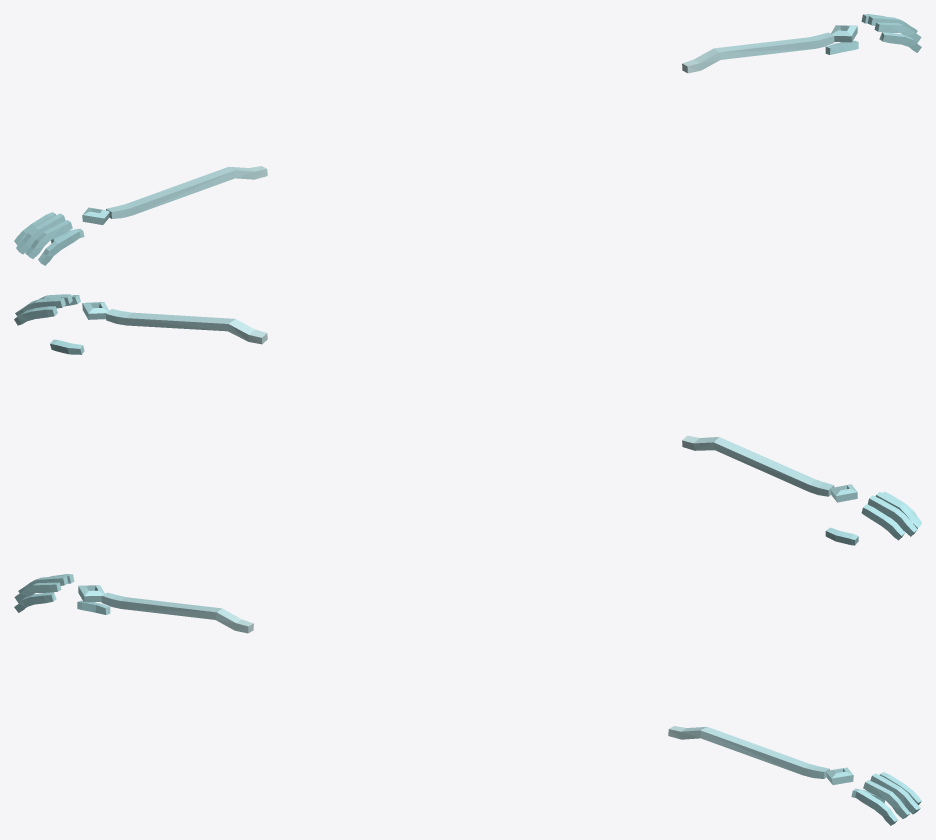
Rendered from CharSkyNPC_Prop_PowerGlove.glb.
The picture shows the model from 3 angles, top to bottom: view 1: azimuth 30°, elevation 25°; view 2: azimuth 150°, elevation 25°; view 3: azimuth 330°, elevation 25°; orthographic projection.
Parts seen in each view (by area): view 1: CharSkyNPC_Prop_PowerGlove; view 2: CharSkyNPC_Prop_PowerGlove; view 3: CharSkyNPC_Prop_PowerGlove.
Boxes of the visible parts, x1,y1,x2,y2 form: CharSkyNPC_Prop_PowerGlove: [14, 14, 921, 265]; CharSkyNPC_Prop_PowerGlove: [14, 294, 921, 545]; CharSkyNPC_Prop_PowerGlove: [14, 574, 921, 825].
Bounding box in the file's own units: 14.22 × 0.7885 × 0.8388.
1 material, 1 textured.
